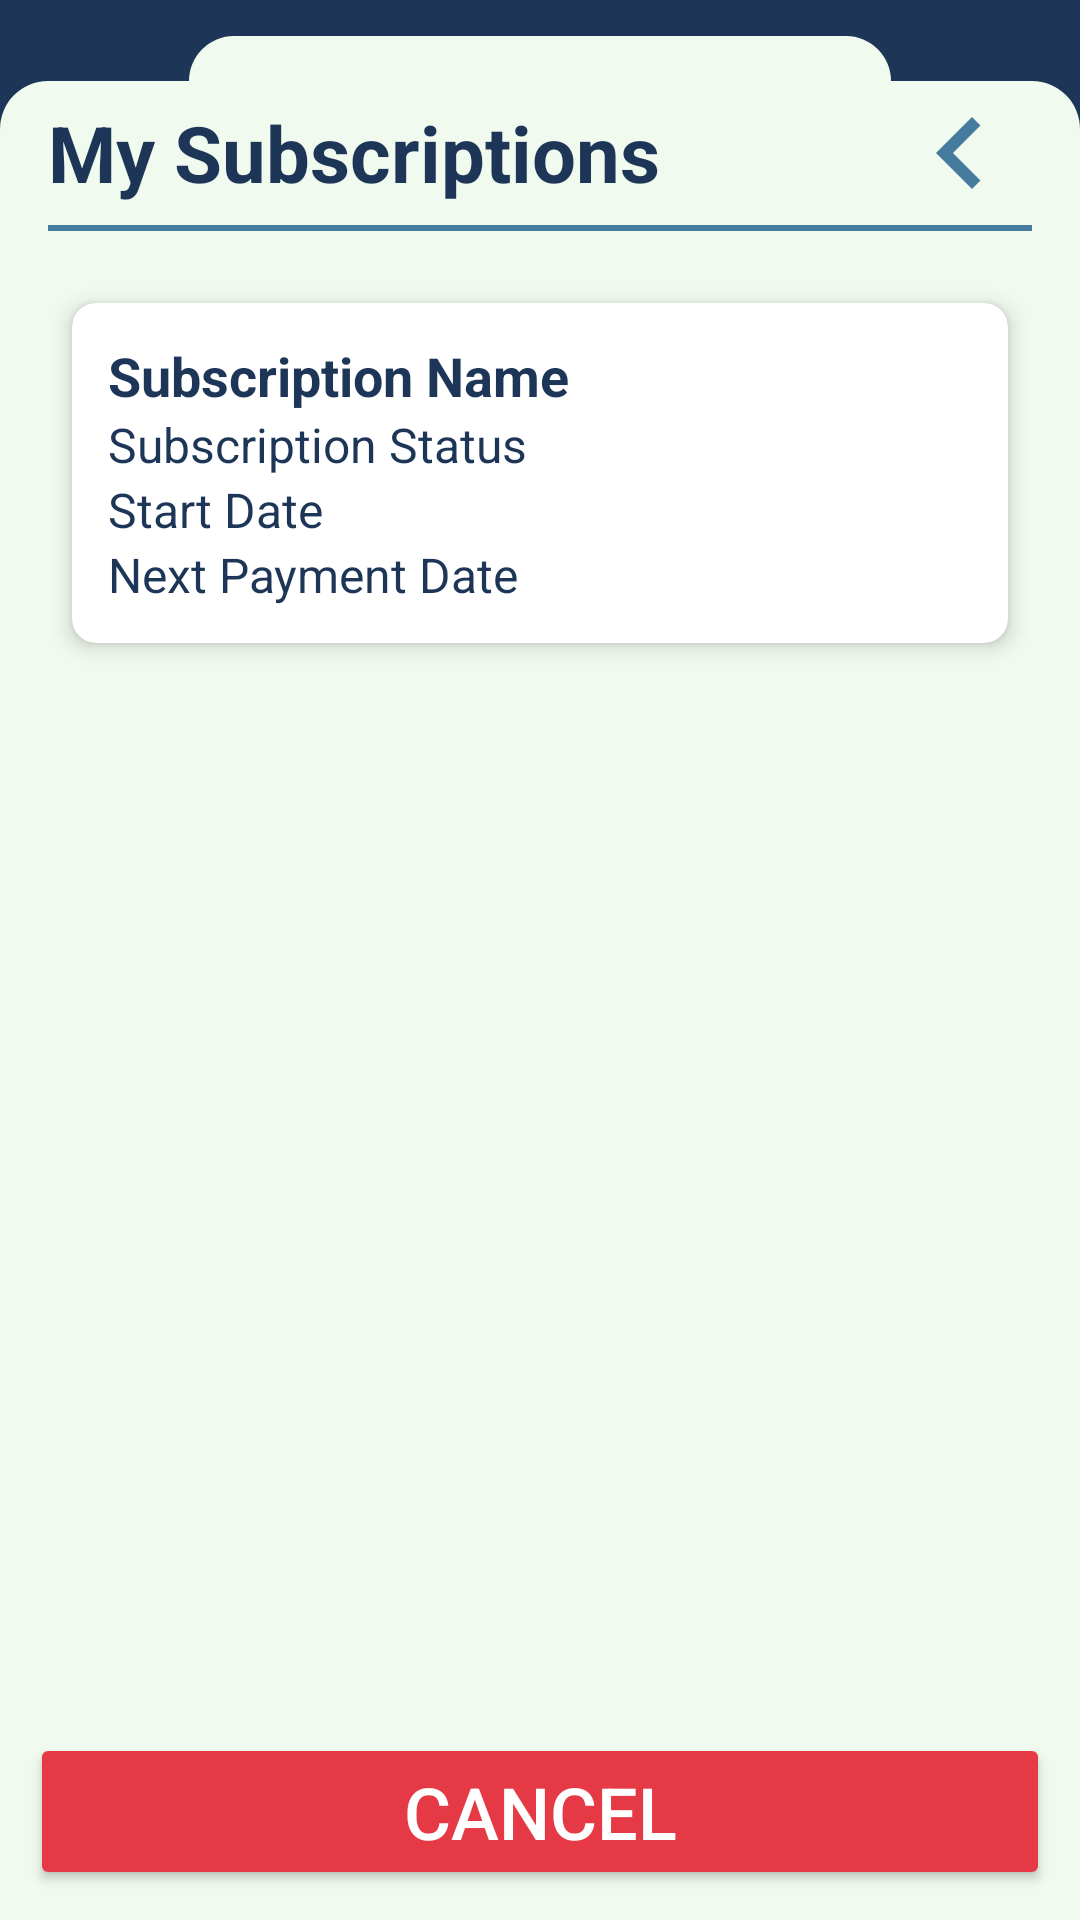

Named icons in this screenshot (1080×1920) and their bounding boxes, (x1, y1, x2, y2):
Chevron Left: (936, 117, 981, 189)
